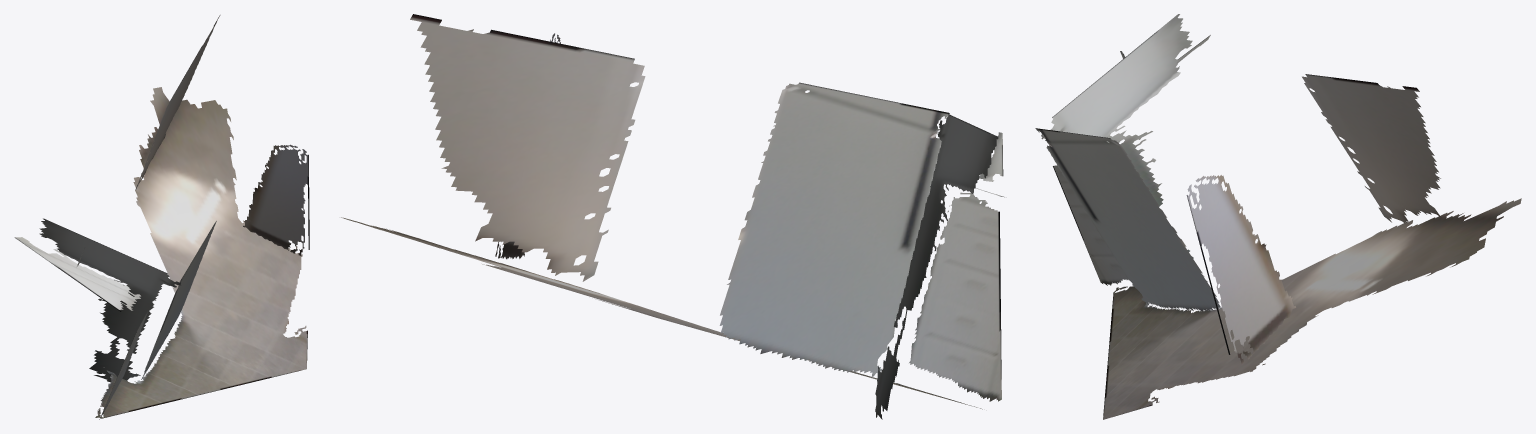
Rendered from 359_d2_depth_GTplane_gt_model.glb.
3 views of the same model, side by side, from view 1: azimuth 30°, elevation 25°; view 2: azimuth 150°, elevation 25°; view 3: azimuth 270°, elevation 25° (orthographic). The views are drawn at different scales.
Bounding box in the file's own units: 2.6 × 2.14 × 2.64.
